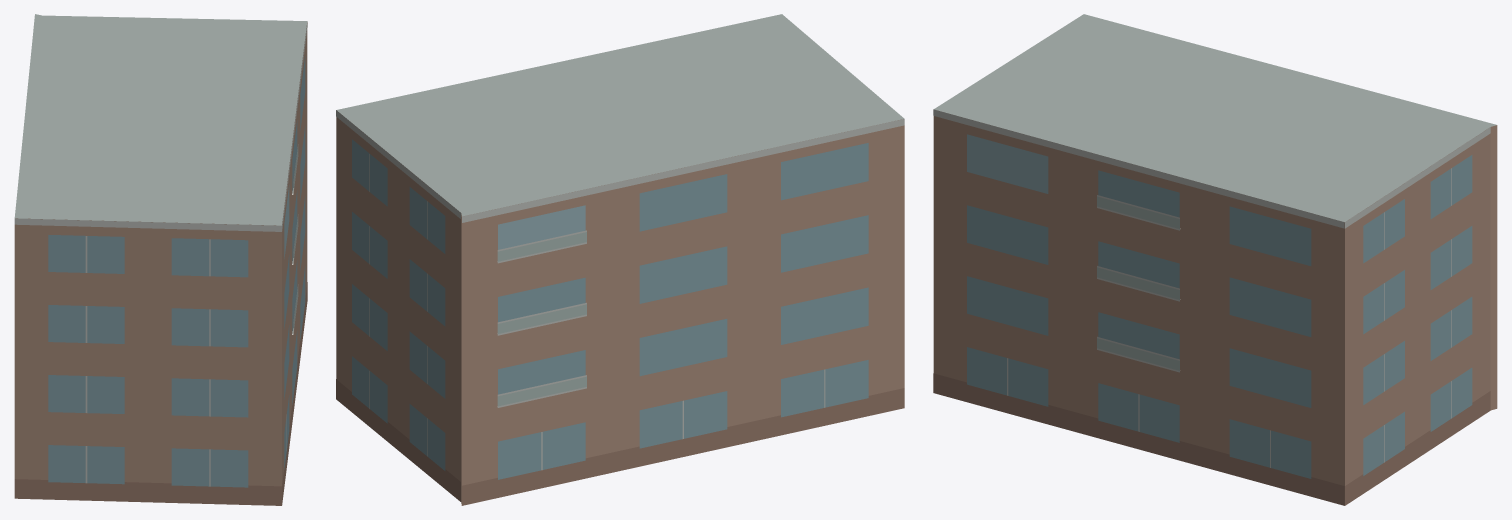
File: survey-upis-32916289.glb
The picture shows the model from 3 angles, left to right: view 1: azimuth 30°, elevation 25°; view 2: azimuth 150°, elevation 25°; view 3: azimuth 270°, elevation 25°; orthographic projection. The views are drawn at different scales.
Parts seen in each view (by area): view 1: survey-upis-32916289.tmp; view 2: survey-upis-32916289.tmp; view 3: survey-upis-32916289.tmp.
Part boxes in pixels (bbox=[...]): survey-upis-32916289.tmp: bbox=[14, 14, 307, 505]; survey-upis-32916289.tmp: bbox=[336, 14, 904, 505]; survey-upis-32916289.tmp: bbox=[933, 14, 1497, 505].
Size of the model in its own units: 16.86 by 10.7 by 19.29.
